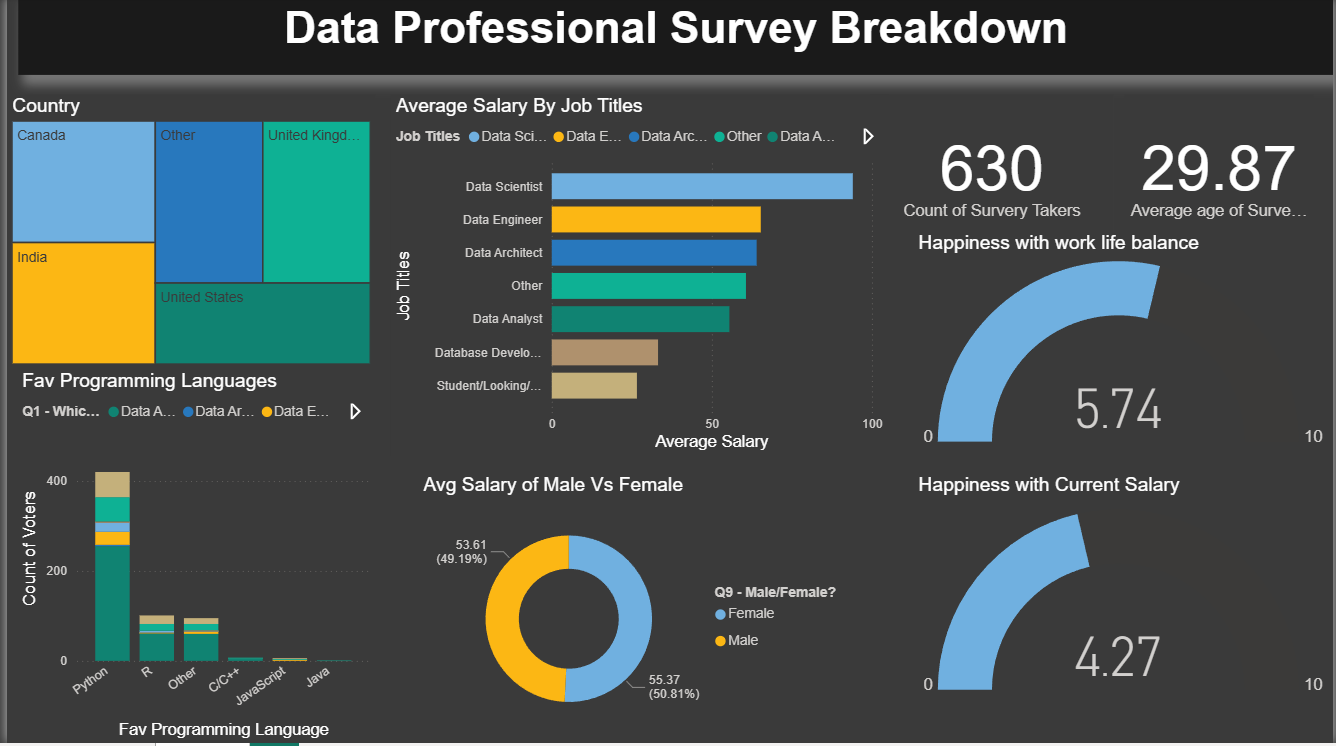

The page's visual inventory and layout, read from the dashboard file:
{"tool":"powerbi","page":{"name":"Page 1","canvas":[1280,720],"ordinal":0},"visuals":[{"type":"textbox","box":[10.3,0,1270,75.1],"z":0},{"type":"card","fields":{"Values":["CountNonNull(Data Professional Survey.Unique ID)"]},"box":[833.9,94.3,234.3,150.3],"z":1},{"type":"card","fields":{"Values":["Avg(Data Professional Survey.Q10 - Current Age)"]},"box":[1078.5,94.3,182.7,150.3],"z":2},{"type":"barChart","title":"Average Salary By Job Titles","fields":{"Category":["Data Professional Survey.Q1 - Which Title Best Fits your Current Role?.1"],"Y":["Avg(Data Professional Survey.Average Salary)"],"Series":["Data Professional Survey.Q1 - Which Title Best Fits your Current Role?.1"]},"box":[370.5,94.2,480.6,348.5],"z":3},{"type":"columnChart","title":"Fav Programming Languages","fields":{"Category":["Data Professional Survey.Q5 - Favorite Programming Language.1"],"Y":["CountNonNull(Data Professional Survey.Unique ID)"],"Series":["Data Professional Survey.Q1 - Which Title Best Fits your Current Role?.1"]},"box":[9.8,359.5,346.1,360.7],"z":4},{"type":"treemap","title":"Country","fields":{"Group":["Data Professional Survey.Q11 - Which Country do you live in?.1"],"Values":["Count(Data Professional Survey.Q11 - Which Country do you live in?.1)"]},"box":[0,94.2,355.8,265.4],"z":5},{"type":"gauge","title":"Happiness with work life balance","fields":{"Y":["Avg(Data Professional Survey.Q6 - How Happy are you in your Current Position with the following? (Work/Life Balance))"],"MinValue":["Min(Data Professional Survey.Q6 - How Happy are you in your Current Position with the following? (Work/Life Balance))"],"MaxValue":["Max(Data Professional Survey.Q6 - How Happy are you in your Current Position with the following? (Work/Life Balance))1"]},"box":[875.1,226.9,405.2,215.1],"z":6},{"type":"gauge","title":"Happiness with Current Salary","fields":{"Y":["Avg(Data Professional Survey.Q6 - How Happy are you in your Current Position with the following? (Salary))"],"MinValue":["Min(Data Professional Survey.Q6 - How Happy are you in your Current Position with the following? (Salary))"],"MaxValue":["Max(Data Professional Survey.Q6 - How Happy are you in your Current Position with the following? (Salary))"]},"box":[875.1,459.7,405.2,228.4],"z":7},{"type":"donutChart","title":"Avg Salary of Male Vs Female","fields":{"Category":["Data Professional Survey.Q9 - Male/Female?"],"Y":["Avg(Data Professional Survey.Average Salary)"]},"box":[397.4,459.8,428,260.5],"z":8}]}

Visuals, with their boxes in screenshot pixels (x1, y1, x2, y2), scaled from the page's 1280x720 canvas onto the 1336x746 screenshot:
textbox: x1=11, y1=0, x2=1335, y2=78
card - CountNonNull(Data Professional Survey.Unique ID): x1=870, y1=98, x2=1115, y2=253
card - Avg(Data Professional Survey.Q10 - Current Age): x1=1126, y1=98, x2=1316, y2=253
"Average Salary By Job Titles" barChart: x1=387, y1=98, x2=888, y2=459
"Fav Programming Languages" columnChart: x1=10, y1=372, x2=371, y2=745
"Country" treemap: x1=0, y1=98, x2=371, y2=373
"Happiness with work life balance" gauge: x1=913, y1=235, x2=1335, y2=458
"Happiness with Current Salary" gauge: x1=913, y1=476, x2=1335, y2=713
"Avg Salary of Male Vs Female" donutChart: x1=415, y1=476, x2=862, y2=745
